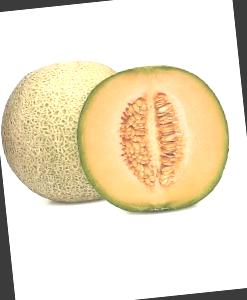Melon Ripe: (72, 58, 235, 220), (0, 53, 124, 215)
